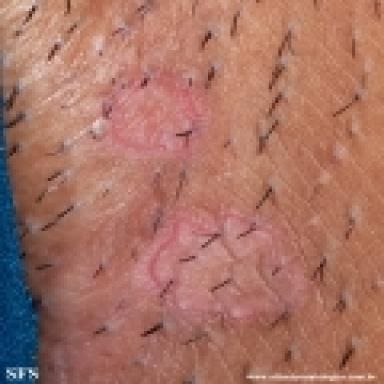Porokeratosis: (145, 206, 302, 317), (106, 67, 209, 156)
